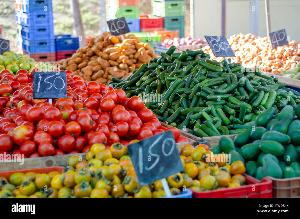cucumber: (129, 44, 287, 132)
tomato: (0, 70, 186, 148)
